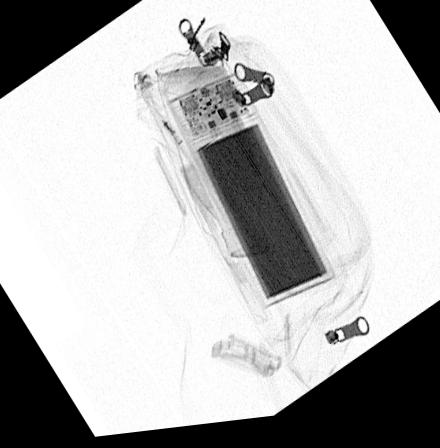Powerbank: (164, 75, 337, 313)
